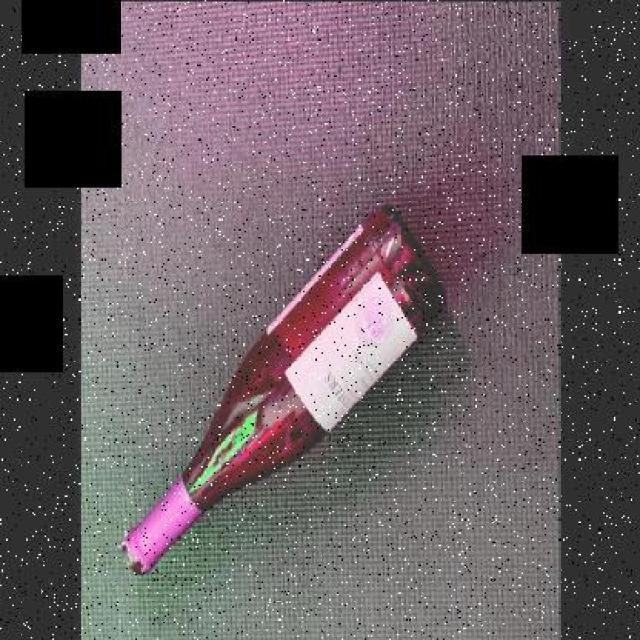glass: (122, 204, 441, 579)
